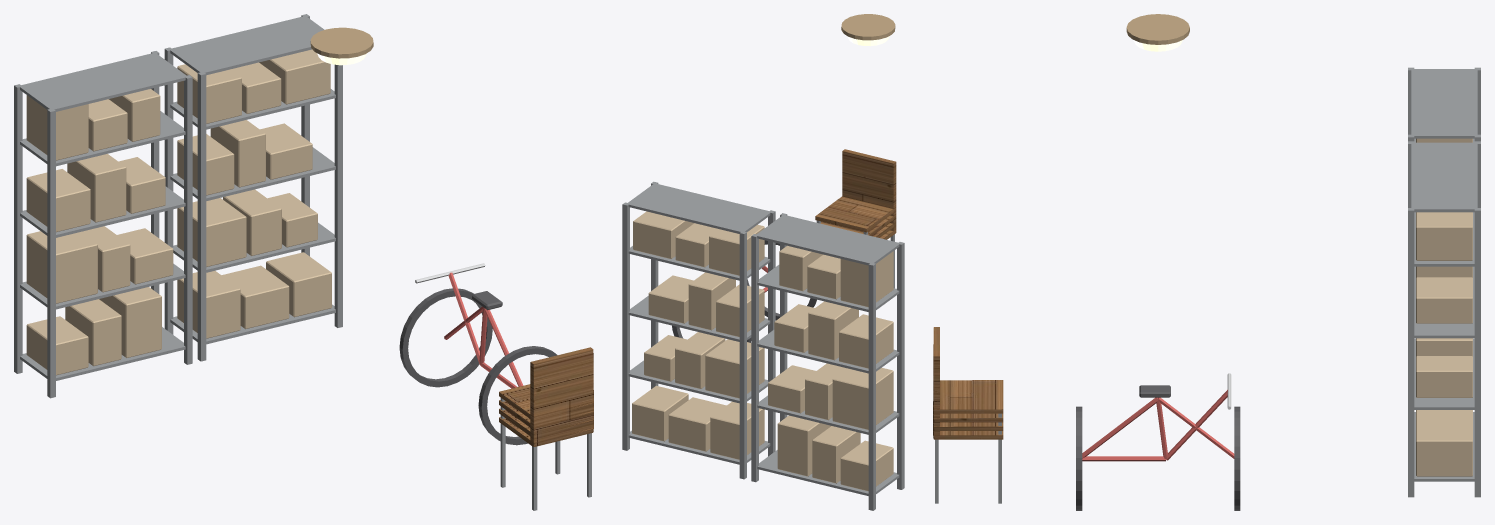
Rendered from storage.glb.
3 views of the same model, side by side, from view 1: azimuth 30°, elevation 25°; view 2: azimuth 150°, elevation 25°; view 3: azimuth 270°, elevation 25° (orthographic). The views are drawn at different scales.
Parts seen in each view (by area): view 1: storage_box_c, storage_steel, storage_wood, storage_dark, storage_bronze, storage_red; view 2: storage_box_c, storage_steel, storage_wood, storage_bronze; view 3: storage_steel, storage_box_c, storage_wood, storage_red, storage_dark, storage_bronze.
Boxes of the visible parts, left/top/right/bottom form: storage_box_c: left=26, top=49, right=331, bottom=375; storage_steel: left=14, top=14, right=591, bottom=510; storage_wood: left=499, top=347, right=593, bottom=446; storage_dark: left=399, top=288, right=557, bottom=445; storage_bronze: left=310, top=27, right=373, bottom=58; storage_red: left=444, top=272, right=523, bottom=388; storage_box_c: left=632, top=211, right=893, bottom=491; storage_steel: left=622, top=181, right=904, bottom=510; storage_wood: left=815, top=149, right=896, bottom=239; storage_bronze: left=841, top=14, right=895, bottom=40; storage_steel: left=935, top=67, right=1480, bottom=503; storage_box_c: left=1416, top=138, right=1472, bottom=476; storage_wood: left=933, top=327, right=1003, bottom=439; storage_red: left=1082, top=389, right=1234, bottom=461; storage_dark: left=1076, top=385, right=1240, bottom=510; storage_bronze: left=1126, top=14, right=1189, bottom=44.
Size of the model in its own units: 2.6 by 2.85 by 3.46.
8 materials, 1 textured.
